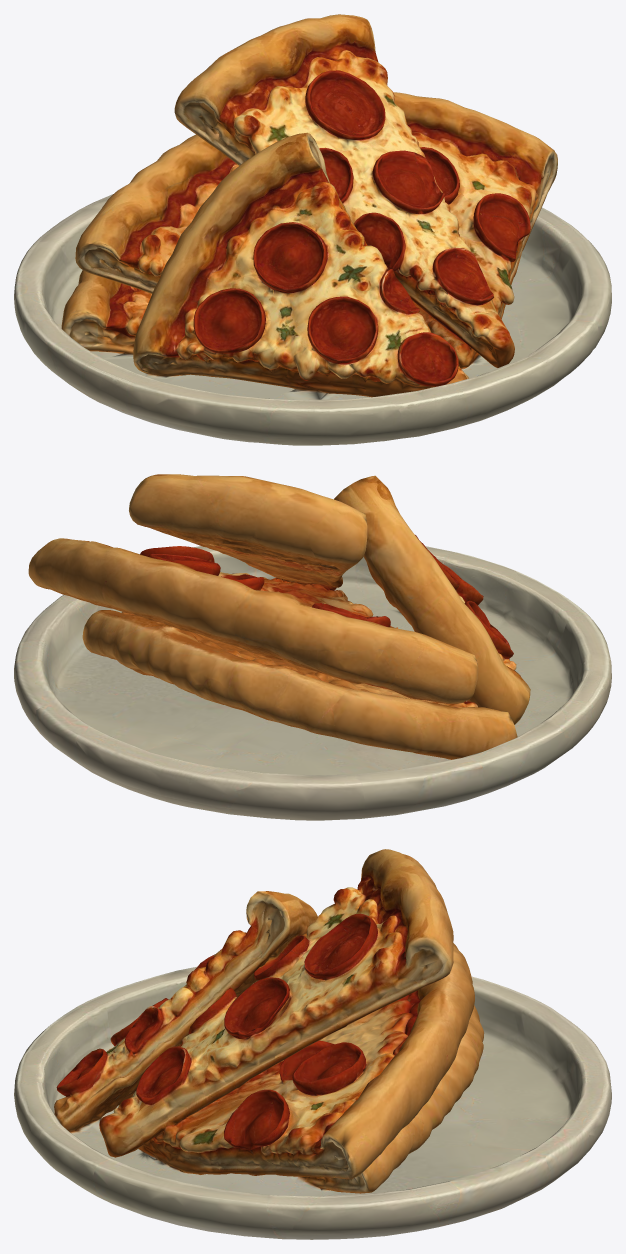
The model's file is pizza.glb.
The picture shows the model from 3 angles, top to bottom: view 1: azimuth 30°, elevation 25°; view 2: azimuth 150°, elevation 25°; view 3: azimuth 270°, elevation 25°; orthographic projection.
Parts seen in each view (by area): view 1: mesh_node; view 2: mesh_node; view 3: mesh_node.
Boxes of the visible parts, <box> form: mesh_node: <box>14,14,611,445</box>; mesh_node: <box>14,474,611,820</box>; mesh_node: <box>14,849,611,1239</box>.
Bounding box in the file's own units: 1.9 × 0.9257 × 1.88.
1 material, 1 textured.
